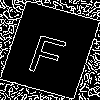F: (25, 25, 72, 78)
